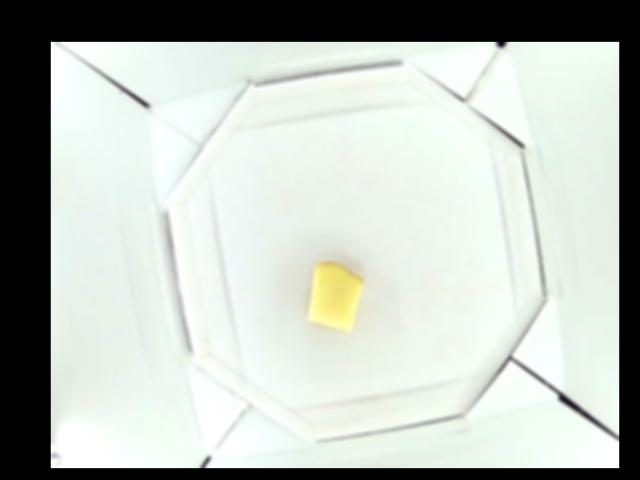Potato: (307, 260, 363, 329)
